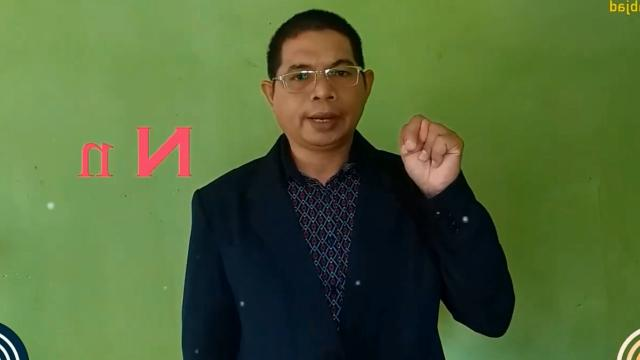N: (398, 112, 466, 192)
